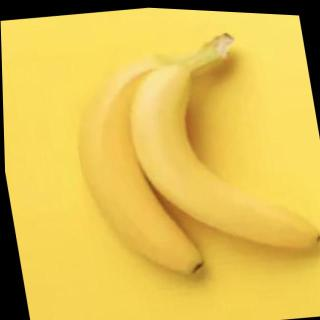banana: (117, 44, 320, 271), (59, 44, 210, 289)
